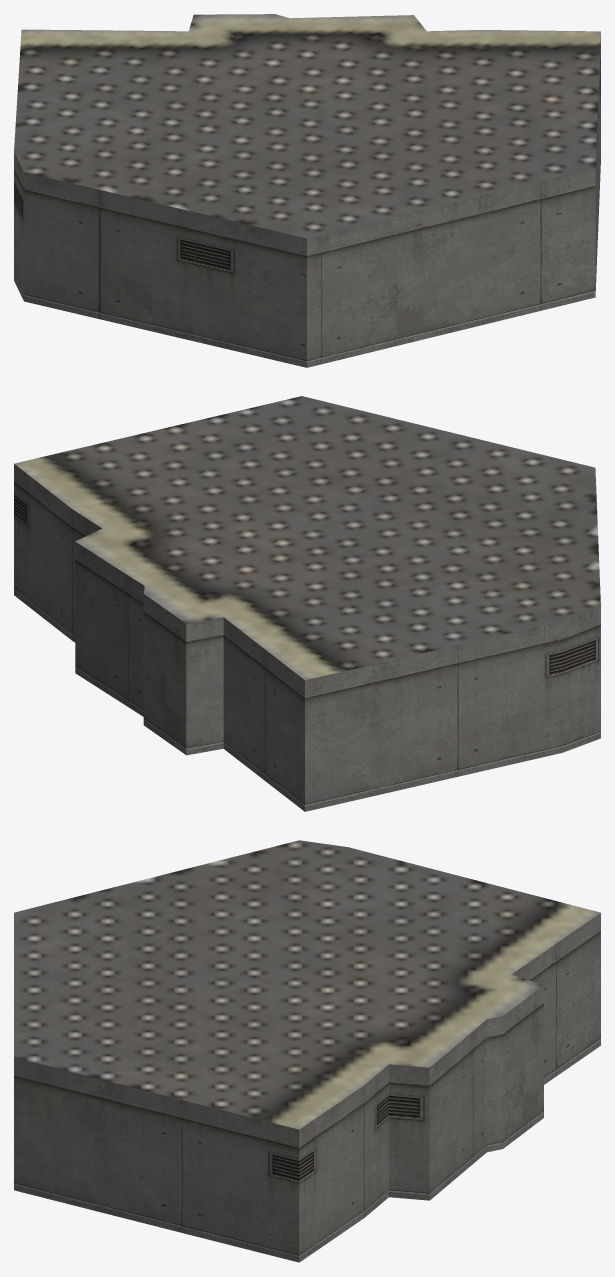
Rendered from building_medium_a_60.glb.
3 views of the same model, one above another, from view 1: azimuth 30°, elevation 25°; view 2: azimuth 150°, elevation 25°; view 3: azimuth 270°, elevation 25° (orthographic). The views are drawn at different scales.
Parts seen in each view (by area): view 1: buildings/saxarba/building_medium/building_medium_a_60; view 2: buildings/saxarba/building_medium/building_medium_a_60; view 3: buildings/saxarba/building_medium/building_medium_a_60.
Part boxes in pixels (x1,y1,x2,y2): buildings/saxarba/building_medium/building_medium_a_60: (14, 14, 600, 367); buildings/saxarba/building_medium/building_medium_a_60: (14, 396, 600, 811); buildings/saxarba/building_medium/building_medium_a_60: (14, 840, 600, 1262).
Bounding box in the file's own units: 84 × 18 × 72.
